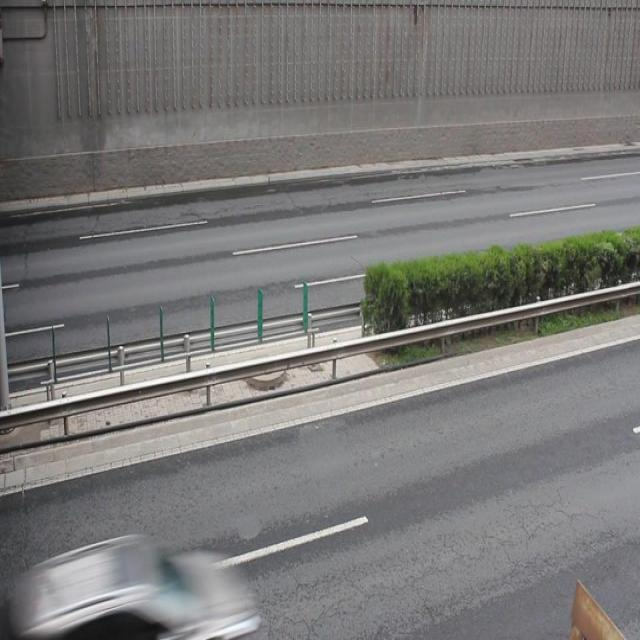car: (41, 531, 257, 640)
